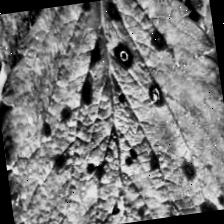Leaf Spot: (0, 0, 224, 224), (0, 1, 109, 91), (114, 0, 215, 56)
